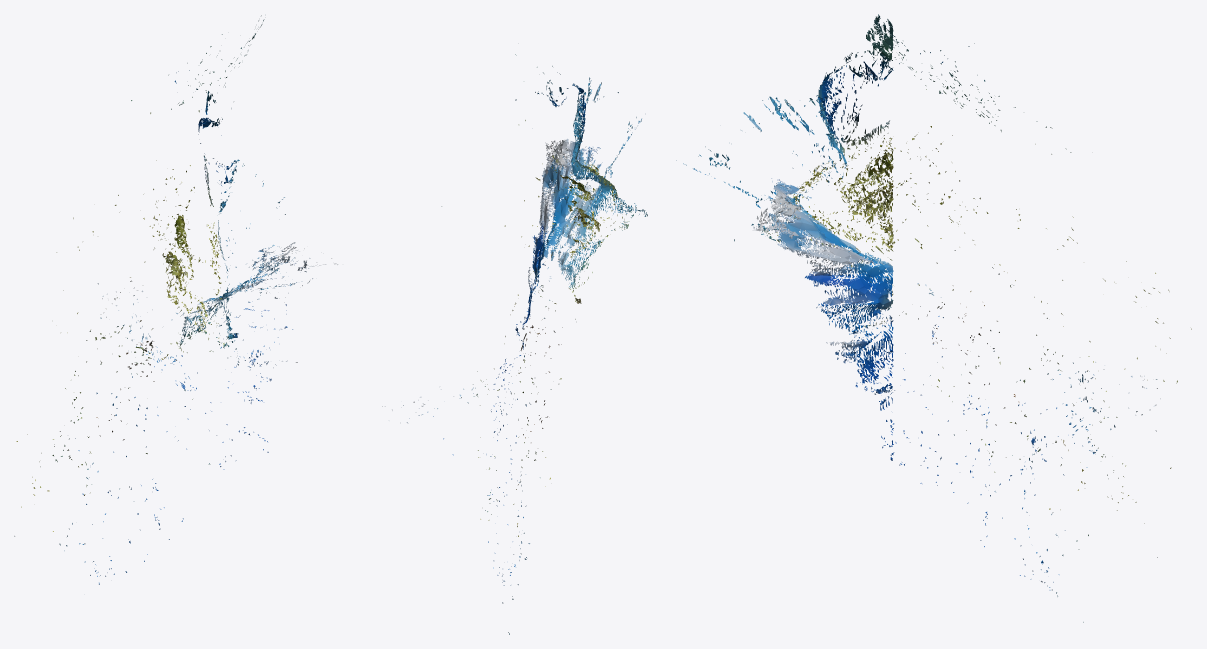
Rendered from hunyuan_scene_001_module_props.glb.
3 renders of one model, left to right at view 1: azimuth 30°, elevation 25°; view 2: azimuth 150°, elevation 25°; view 3: azimuth 270°, elevation 25°, orthographic. The views are drawn at different scales.
Visible parts, largest first — view 1: hunyuan_scene_001_module_props; view 2: hunyuan_scene_001_module_props; view 3: hunyuan_scene_001_module_props.
Part boxes in pixels (left/top/right/bottom): hunyuan_scene_001_module_props: left=14, top=15, right=338, bottom=584; hunyuan_scene_001_module_props: left=382, top=54, right=647, bottom=634; hunyuan_scene_001_module_props: left=676, top=14, right=1191, bottom=622.
Size of the model in its own units: 7.49 by 31.22 by 21.85.
